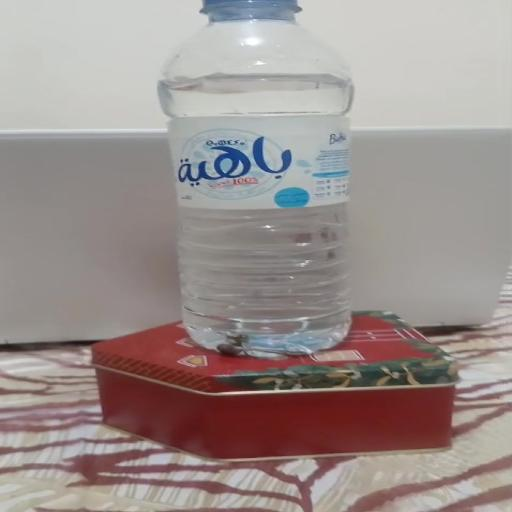bouteille conformite: (113, 4, 408, 354)
